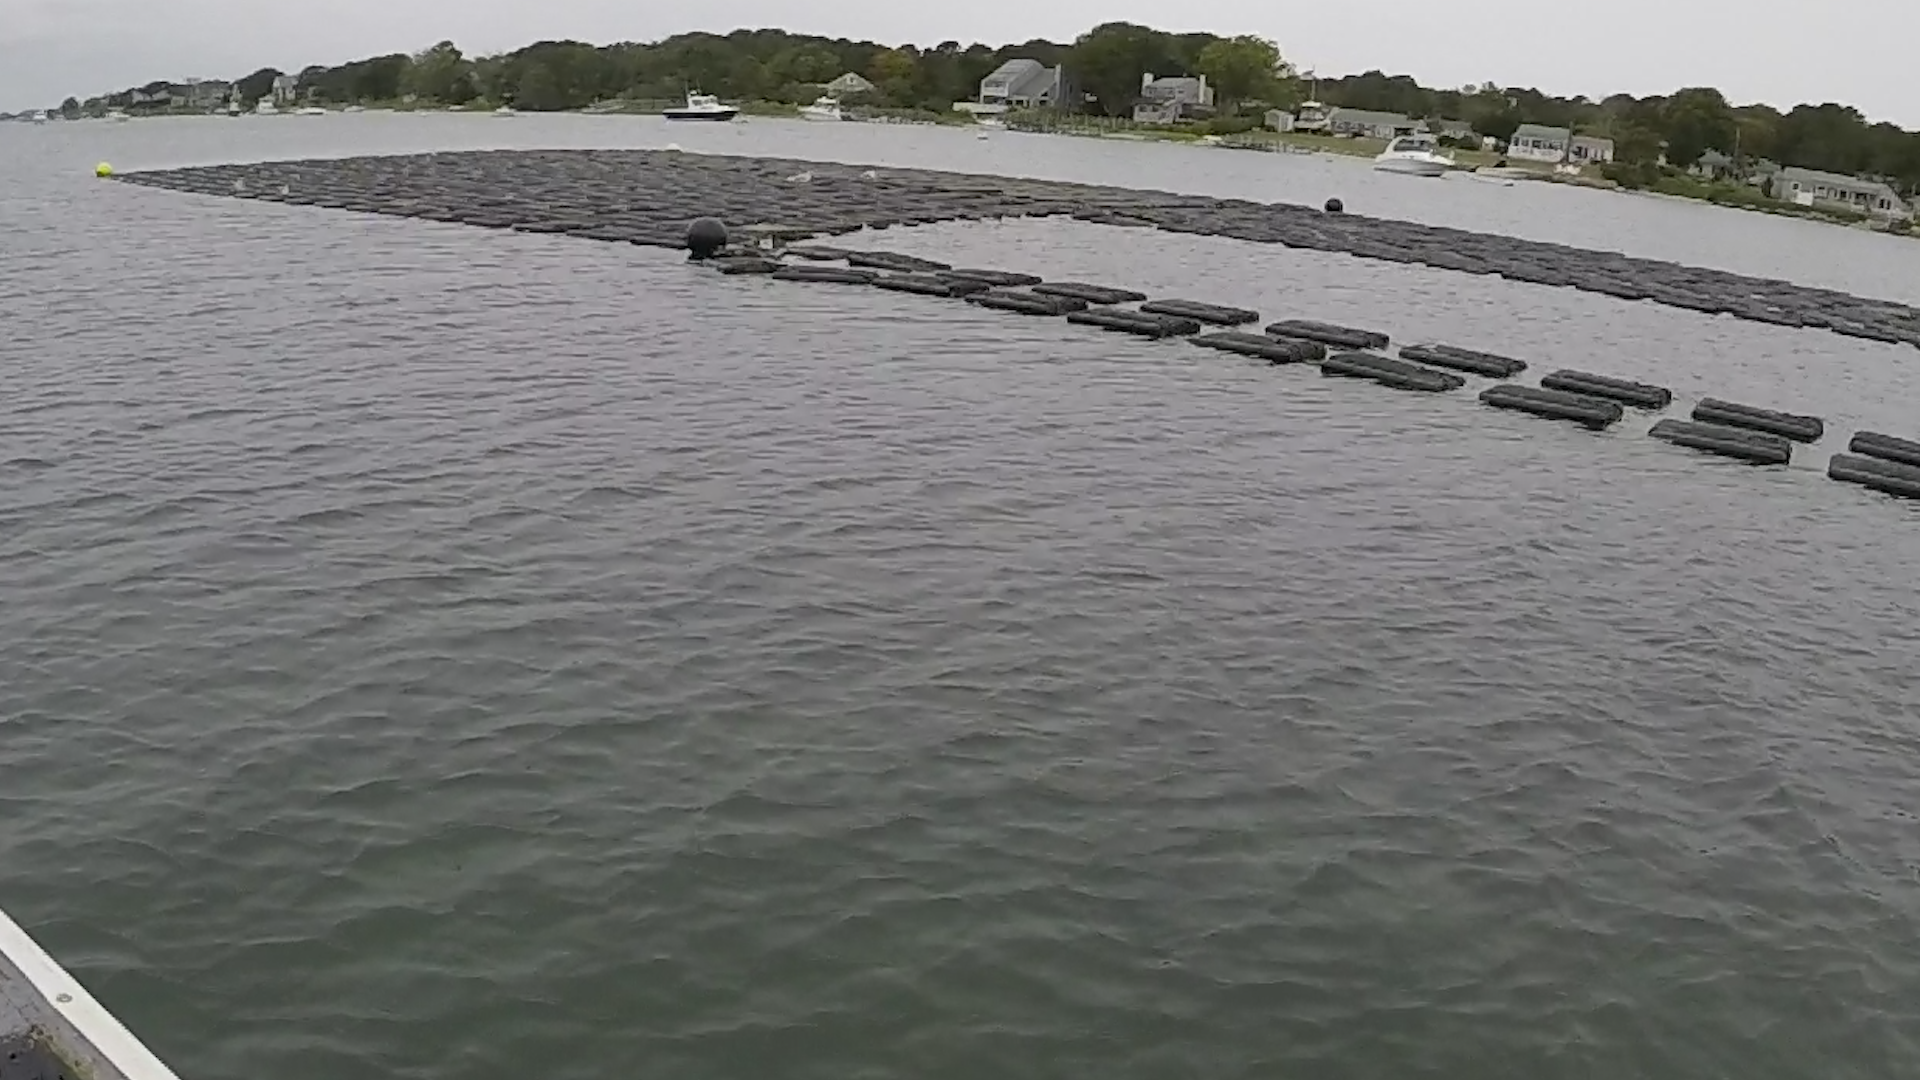bag: (1644, 414, 1793, 468), (1480, 378, 1621, 431)
